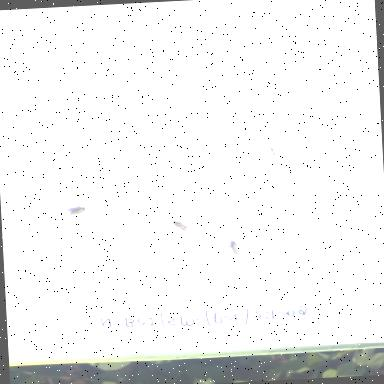pbw: (218, 236, 252, 262), (162, 216, 198, 234), (60, 201, 94, 220)
